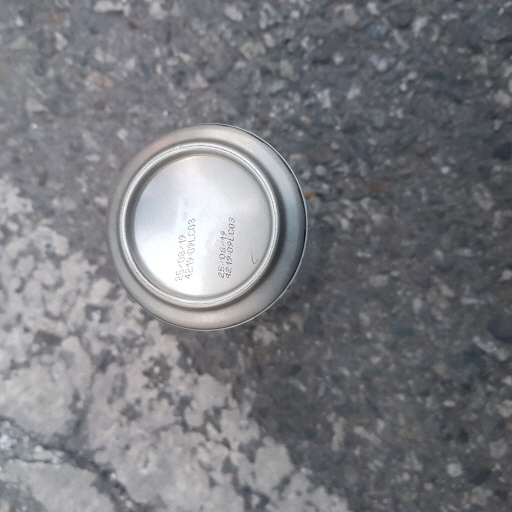Metal_0: (101, 121, 323, 335)
